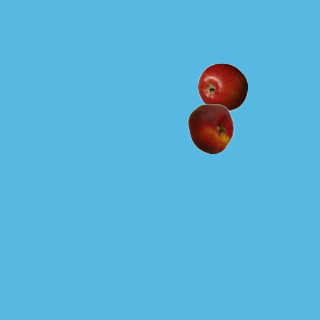Apple Braeburn: (197, 62, 247, 112)
Nectarine Flat: (185, 103, 235, 153)
